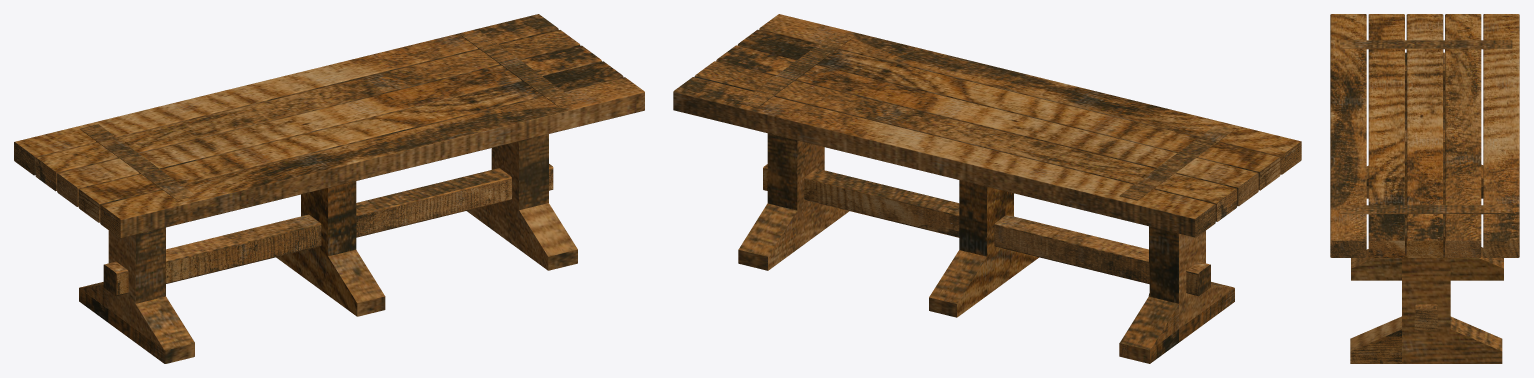
File: table.obj
3 renders of one model, left to right at view 1: azimuth 30°, elevation 25°; view 2: azimuth 150°, elevation 25°; view 3: azimuth 270°, elevation 25°, orthographic. The views are drawn at different scales.
Parts seen in each view (by area): view 1: TableJoined; view 2: TableJoined; view 3: TableJoined.
Part boxes in pixels (x1,y1,x2,y2): TableJoined: (14, 14, 644, 363); TableJoined: (673, 14, 1301, 363); TableJoined: (1330, 14, 1519, 363).
Size of the model in its own units: 2.8 by 0.8525 by 0.988.
